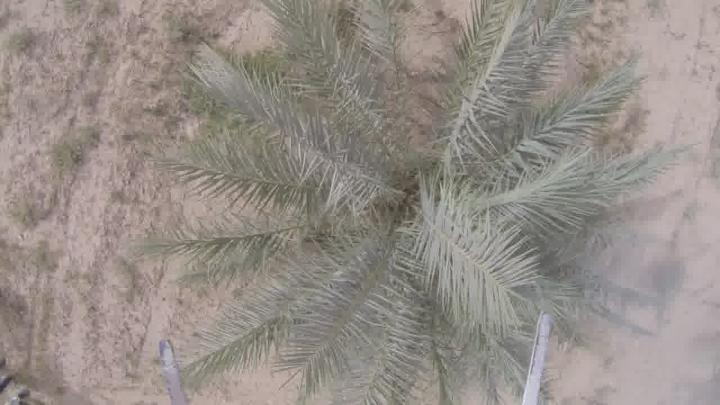Date-Palm-Crown: (284, 91, 554, 329)
